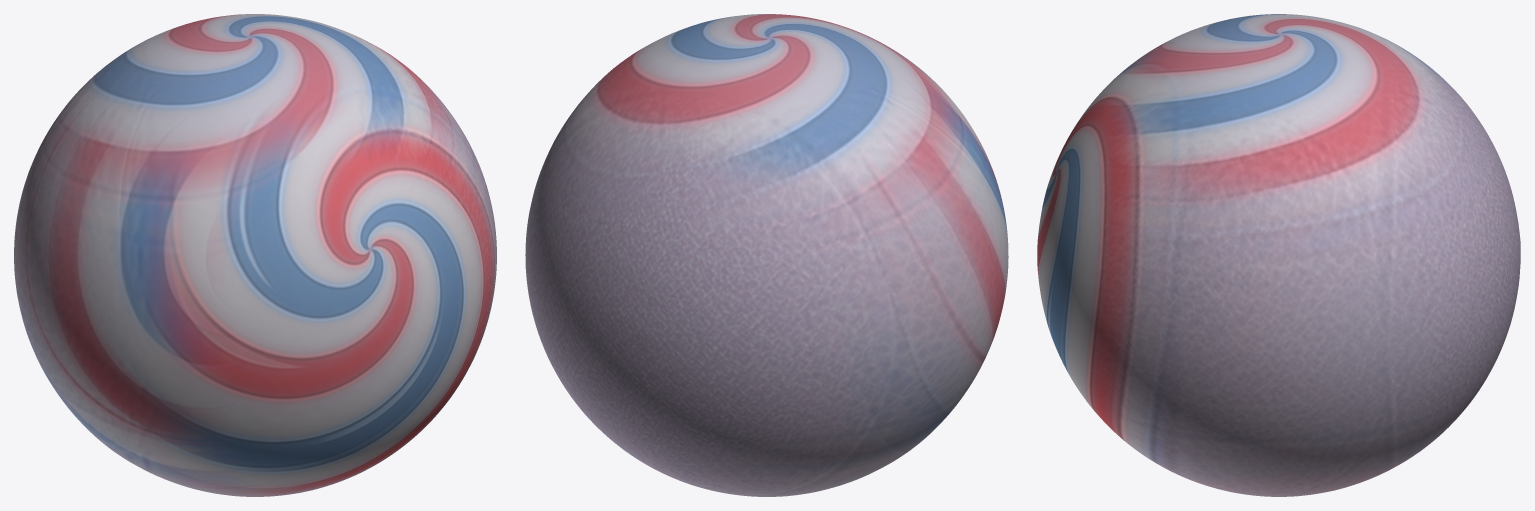
Rendered from level1pistolbullet.glb.
The picture shows the model from 3 angles, left to right: view 1: azimuth 30°, elevation 25°; view 2: azimuth 150°, elevation 25°; view 3: azimuth 270°, elevation 25°; orthographic projection.
Size of the model in its own units: 1.9 by 1.89 by 1.9.
Materials: 1 (1 with a texture image).
